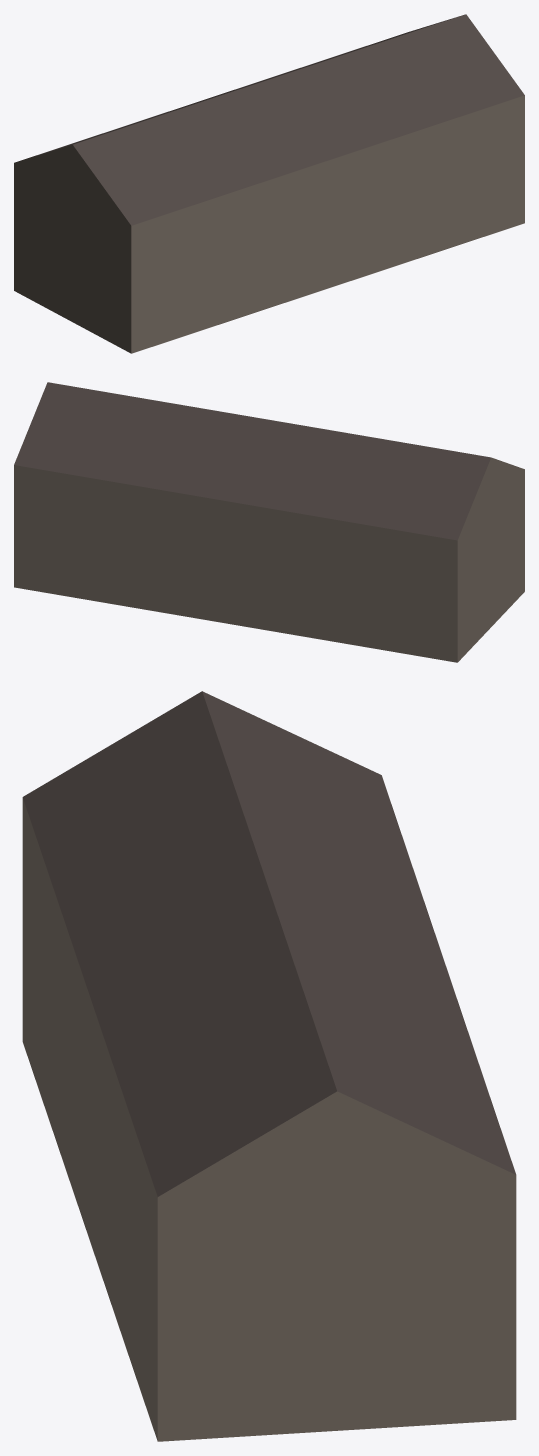
The picture shows the model from 3 angles, top to bottom: view 1: azimuth 30°, elevation 25°; view 2: azimuth 150°, elevation 25°; view 3: azimuth 270°, elevation 25°; orthographic projection. The views are drawn at different scales.
Parts seen in each view (by area): view 1: HP-w389702033; view 2: HP-w389702033; view 3: HP-w389702033.
Part boxes in pixels (x1,y1,x2,y2): HP-w389702033: (14,14,524,353); HP-w389702033: (14,382,524,662); HP-w389702033: (22,691,516,1441).
Size of the model in its own units: 22.2 by 8.33 by 10.98.
